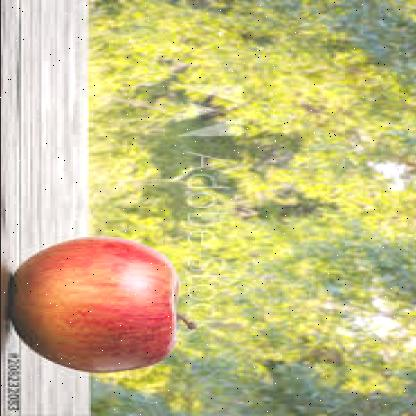apple: (20, 235, 188, 378)
